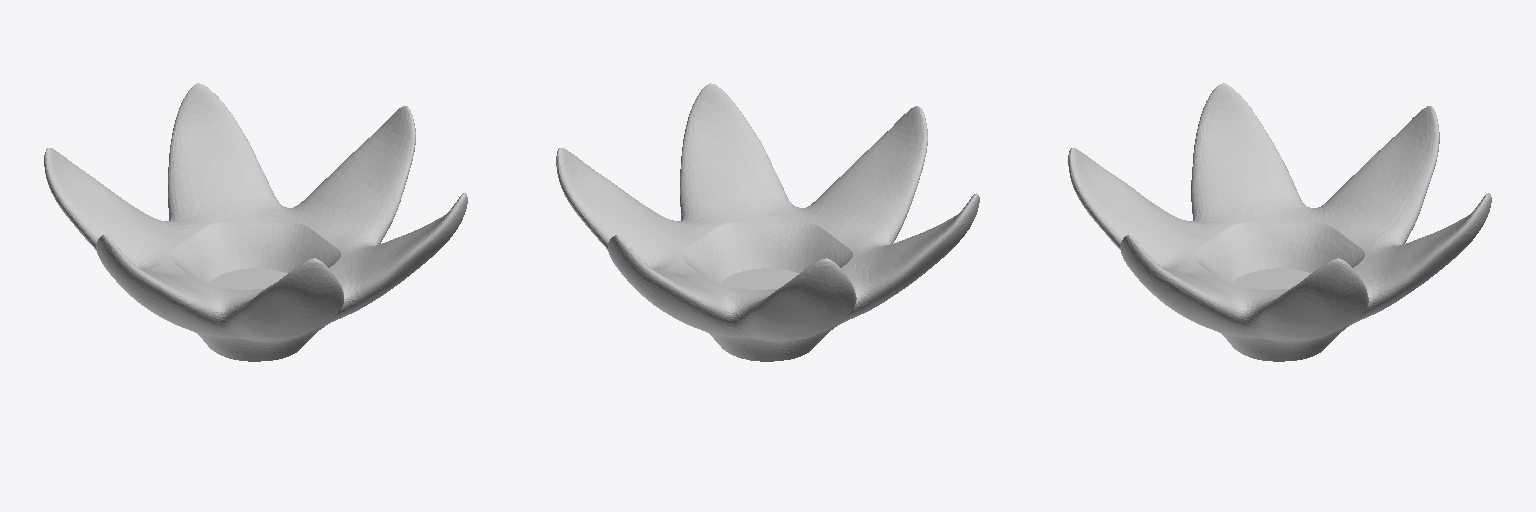
File: flower2.obj
The picture shows the model from 3 angles: view 1: azimuth 30°, elevation 25°; view 2: azimuth 150°, elevation 25°; view 3: azimuth 270°, elevation 25°; orthographic projection.
Parts seen in each view (by area): view 1: Quad_Sphere; view 2: Quad_Sphere; view 3: Quad_Sphere.
Boxes of the visible parts, x1,y1,x2,y2 form: Quad_Sphere: [44, 83, 467, 361]; Quad_Sphere: [556, 83, 979, 361]; Quad_Sphere: [1068, 83, 1491, 361].
Size of the model in its own units: 1.56 by 0.6998 by 1.58.